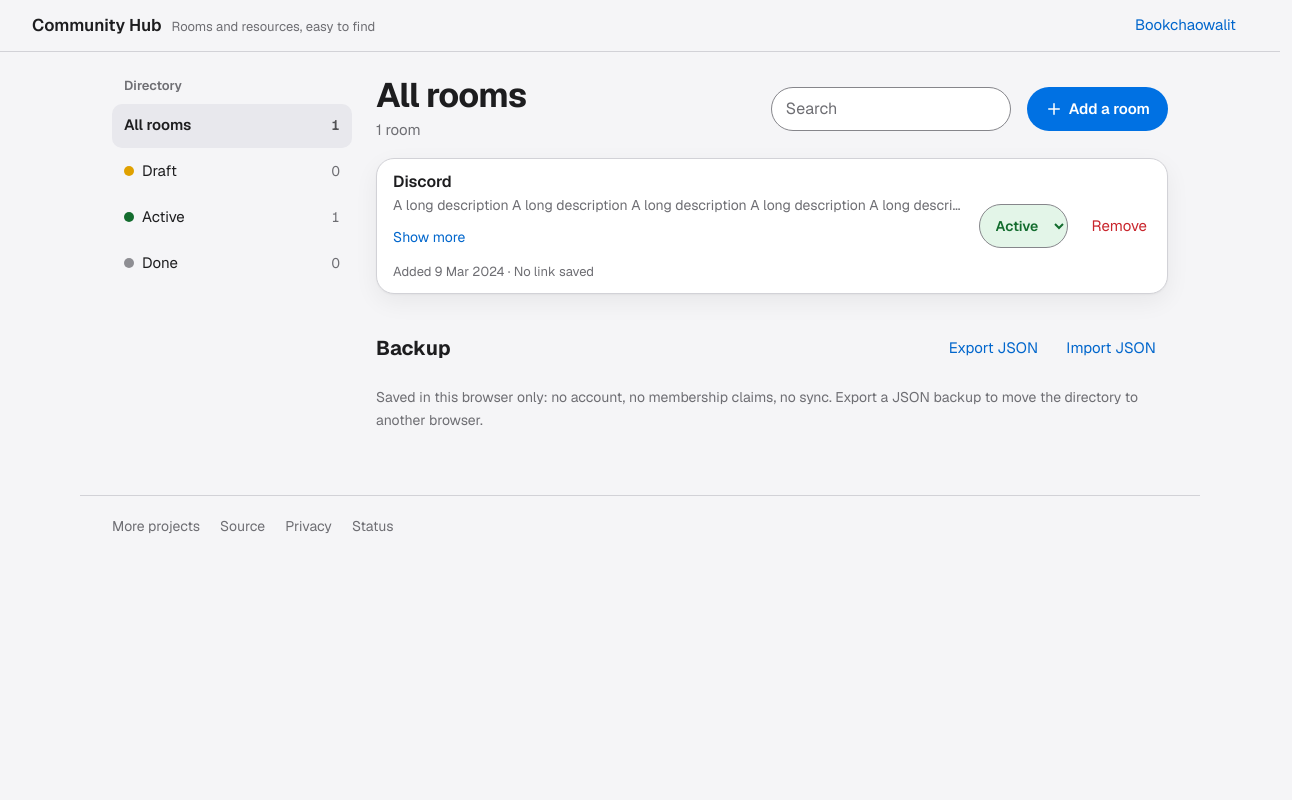
it: long descriptions › a clipped description gets Show more / Show less
Step 1. Click the button "Show more" → (429, 238), box [393, 216, 465, 260]
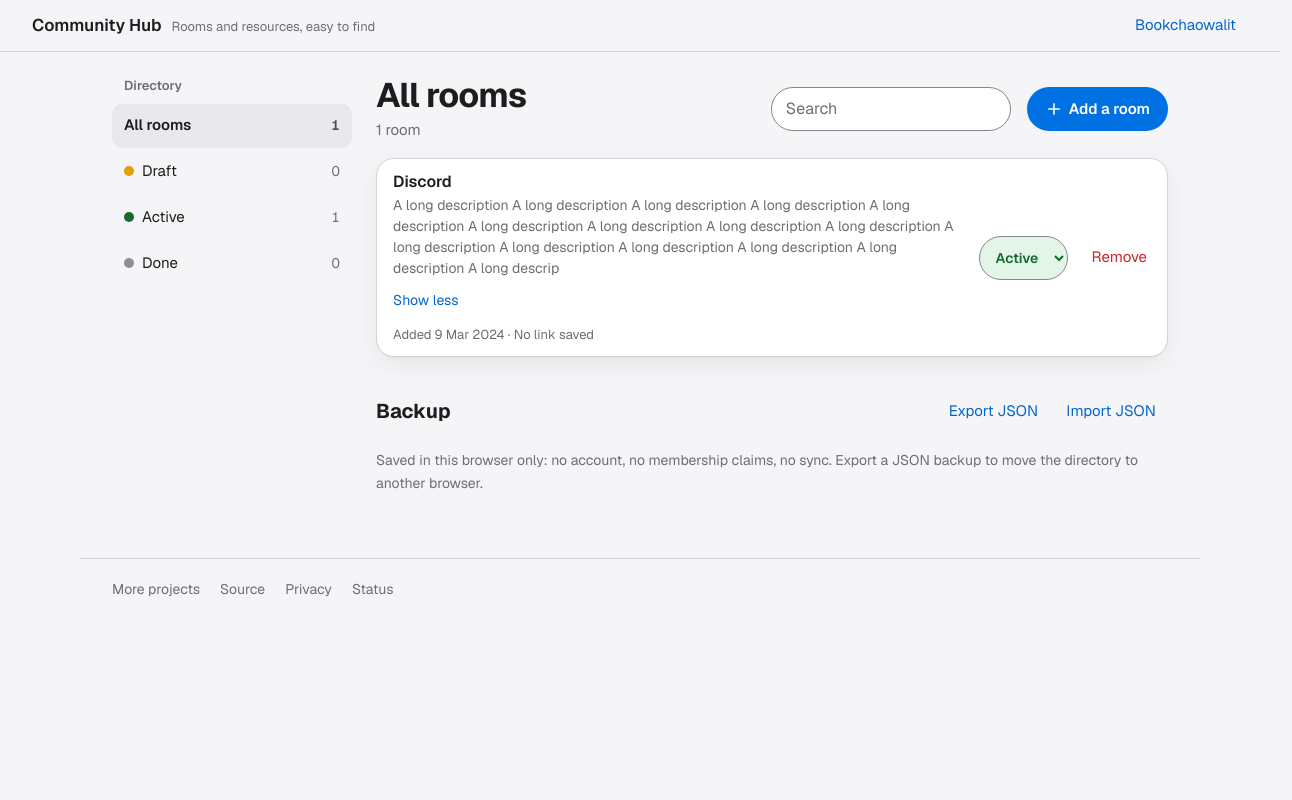
Result: the button "Show less" is expanded at [393, 279, 458, 323]
